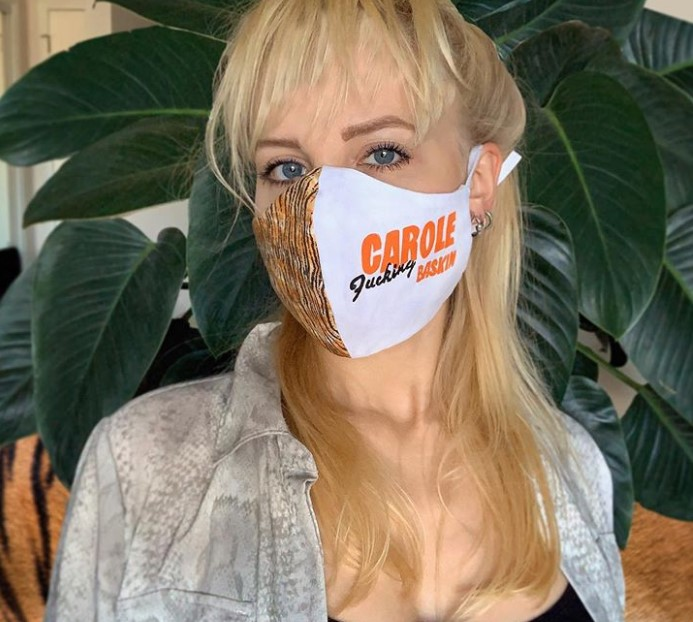face_with_mask: (208, 2, 519, 363)
